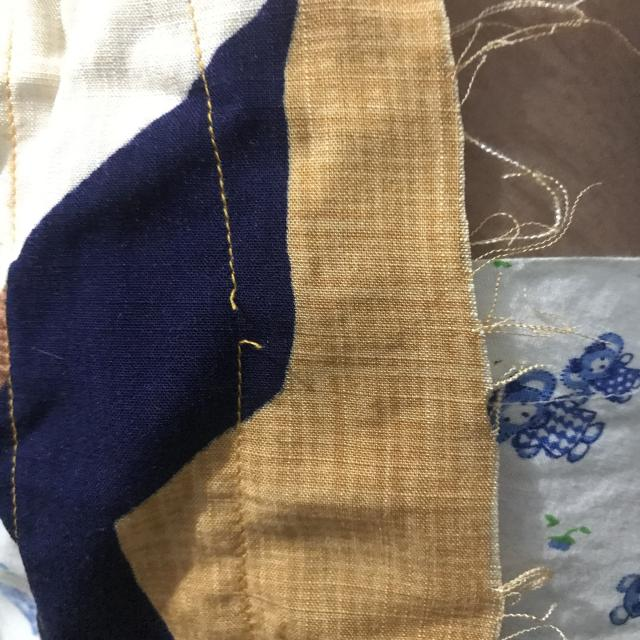broken: (210, 269, 286, 381)
good: (186, 132, 248, 236)
